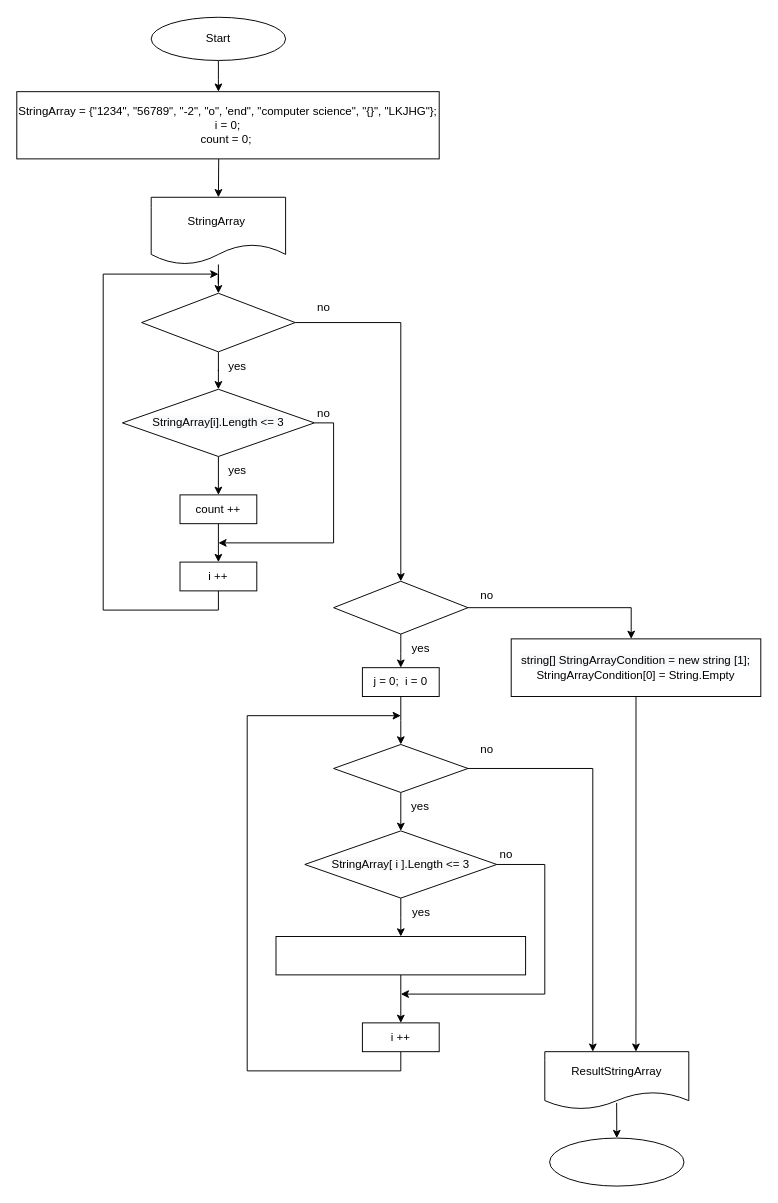
This 778x1203 diagram has some shape labels left out. The shapes that lost their labels are listed below. From the top down, each one's centre as x and y in pixels, then its label:
the point at 218,322: i < StringArray.Length
the point at 400,607: count != 0
the point at 400,768: j < count
the point at 400,955: ResultStringArray [ j ] = String Array[ i ]; j ++
the point at 616,1161: end
